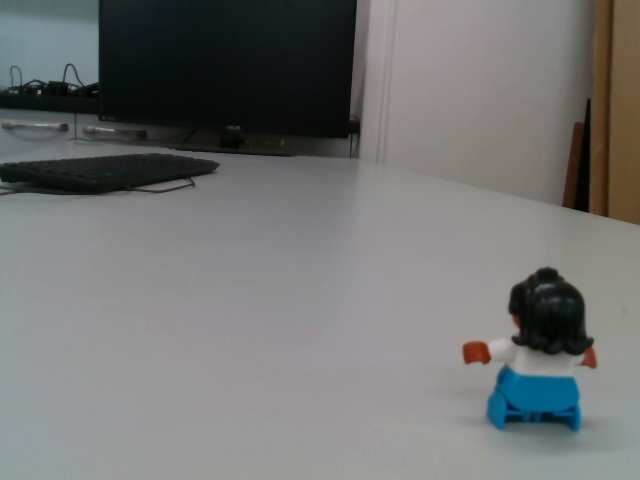people: (459, 265, 600, 434)
